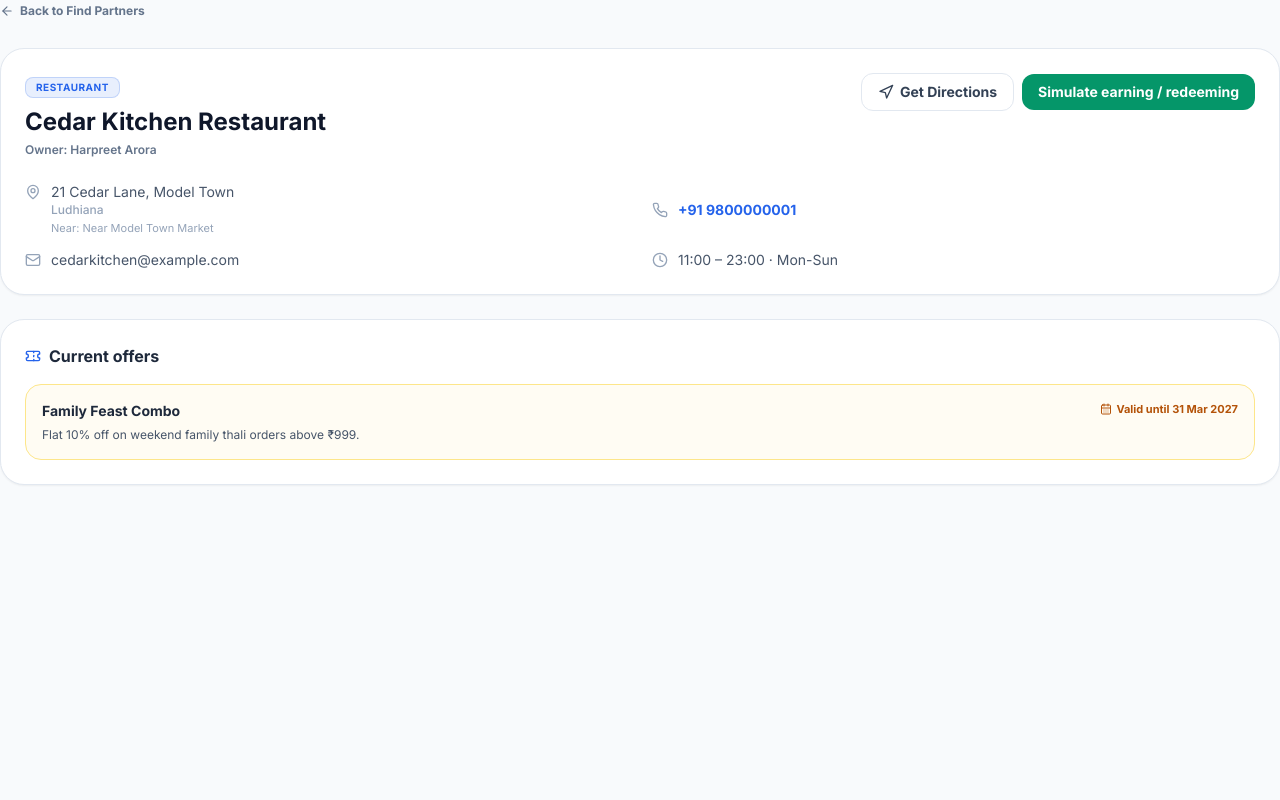
Test case: Phase 3 — DemoMerchantProfile › opens the SimulatorModal from the Simulate button
Expected: the text "try the rewards simulator" is not shown
Click the button "Simulate earning / redeeming". click: (1139, 92)
box: [1022,74,1255,110]
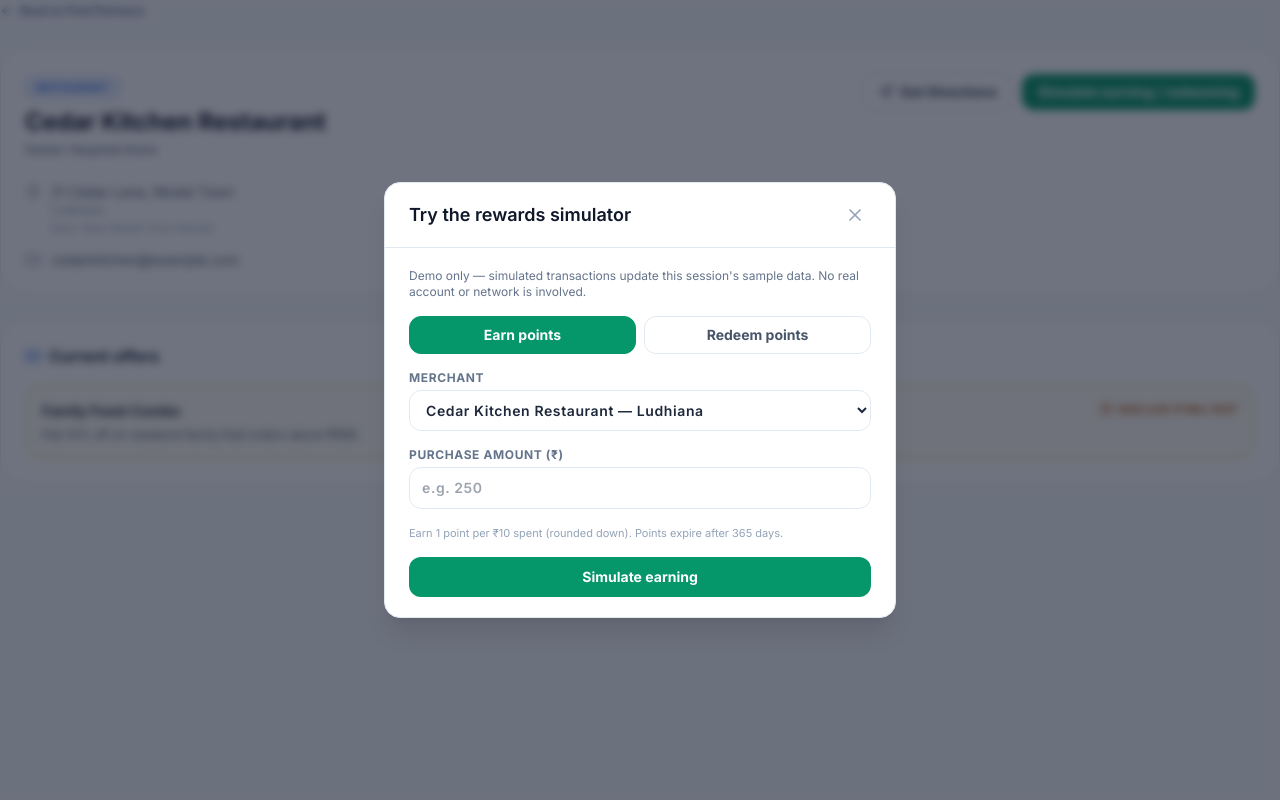
Expected: the heading "Try the rewards simulator" is shown, [409,201,631,229]
